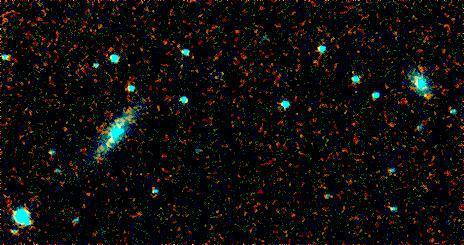star: (410, 81, 440, 111)
